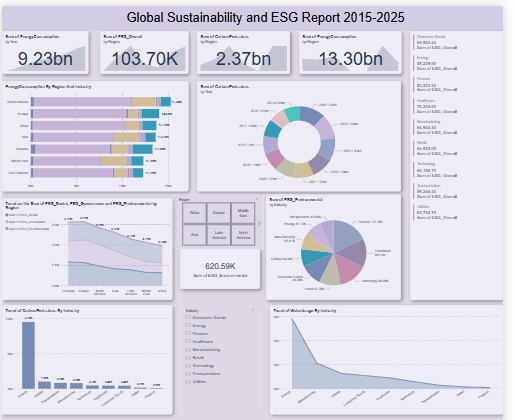

What the dashboard file says about the page in this screenshot:
{"tool":"powerbi","page":{"name":"Page 1","canvas":[1670,1500],"ordinal":0},"visuals":[{"type":"clusteredColumnChart","title":"Trend of CarbonEmissions By Industry","fields":{"Category":["esg_analysis esg_data.Industry"],"Y":["Sum(esg_analysis esg_data.CarbonEmissions)"]},"box":[0,996.7,568.3,365],"z":0},{"type":"pieChart","fields":{"Category":["esg_analysis esg_data.Industry"],"Y":["Sum(esg_analysis esg_data.ESG_Environmental)"]},"box":[880,625,450,353.3],"z":1000},{"type":"barChart","title":" EnergyConsumption By Region And Industry","fields":{"Category":["esg_analysis esg_data.Region"],"Y":["Sum(esg_analysis esg_data.EnergyConsumption)"],"Series":["esg_analysis esg_data.Industry"]},"box":[0,248.3,621.7,368.3],"z":2000},{"type":"donutChart","fields":{"Category":["esg_analysis esg_data.Year"],"Y":["Sum(esg_analysis esg_data.CarbonEmissions)"]},"box":[650,248.3,680,368.3],"z":3000},{"type":"stackedAreaChart","title":"Trend on the Sum of ESG_Social,  ESG_Governance and  ESG_Environmental by Region","fields":{"Category":["esg_analysis esg_data.Region"],"Y":["Sum(esg_analysis esg_data.ESG_Social)","Sum(esg_analysis esg_data.ESG_Governance)","Sum(esg_analysis esg_data.ESG_Environmental)"]},"box":[0,638.3,568.3,340],"z":4000},{"type":"textbox","box":[0,0,1750,81.7],"z":5000},{"type":"kpi","fields":{"TrendLine":["esg_analysis esg_data.Year"],"Indicator":["Sum(esg_analysis esg_data.EnergyConsumption)"]},"box":[0,81.7,288.3,143.3],"z":6000},{"type":"kpi","fields":{"TrendLine":["esg_analysis esg_data.Region"],"Indicator":["Sum(esg_analysis esg_data.ESG_Overall)"]},"box":[326.7,81.7,295,143.3],"z":7000},{"type":"kpi","fields":{"TrendLine":["esg_analysis esg_data.Region"],"Indicator":["Sum(esg_analysis esg_data.CarbonEmissions)"]},"box":[650,81.7,310,143.3],"z":8000},{"type":"kpi","fields":{"Indicator":["Sum(esg_analysis esg_data.EnergyConsumption)"],"TrendLine":["esg_analysis esg_data.Region"]},"box":[988.3,81.7,341.7,143.3],"z":9000},{"type":"multiRowCard","fields":{"Values":["Sum(esg_analysis esg_data.ESG_Overall)","esg_analysis esg_data.Industry"]},"box":[1360,81.7,310,896.7],"z":10000},{"type":"card","fields":{"Values":["Sum(esg_analysis esg_data.ESG_Environmental)"]},"box":[591.7,808.3,266.7,133.3],"z":11000},{"type":"areaChart","title":"Trend of WaterUsage By Industry","fields":{"Category":["esg_analysis esg_data.Industry"],"Y":["Sum(esg_analysis esg_data.WaterUsage)"]},"box":[891.7,996.7,778.3,365],"z":12000},{"type":"slicer","fields":{"Values":["esg_analysis esg_data.Region"]},"box":[568.3,625,303.3,183.3],"z":13000},{"type":"slicer","fields":{"Values":["esg_analysis esg_data.Industry"]},"box":[592,997,267,365],"z":14000}]}

Visuals, with their boxes on the page's 1670x1500 design canvas (x1, y1, x2, y2). These are canvas units, not pixel positions in the 515x420 screenshot, which may show the page scaled, cropped or inside an application window:
"Trend of CarbonEmissions By Industry" clusteredColumnChart: [0, 997, 568, 1362]
pieChart - esg_analysis esg_data.Industry x Sum(esg_analysis esg_data.ESG_Environmental): [880, 625, 1330, 978]
" EnergyConsumption By Region And Industry" barChart: [0, 248, 622, 617]
donutChart - esg_analysis esg_data.Year x Sum(esg_analysis esg_data.CarbonEmissions): [650, 248, 1330, 617]
"Trend on the Sum of ESG_Social,  ESG_Governance and  ESG_Environmental by Region" stackedAreaChart: [0, 638, 568, 978]
textbox: [0, 0, 1750, 82]
kpi - esg_analysis esg_data.Year x Sum(esg_analysis esg_data.EnergyConsumption): [0, 82, 288, 225]
kpi - esg_analysis esg_data.Region x Sum(esg_analysis esg_data.ESG_Overall): [327, 82, 622, 225]
kpi - esg_analysis esg_data.Region x Sum(esg_analysis esg_data.CarbonEmissions): [650, 82, 960, 225]
kpi - Sum(esg_analysis esg_data.EnergyConsumption) x esg_analysis esg_data.Region: [988, 82, 1330, 225]
multiRowCard - Sum(esg_analysis esg_data.ESG_Overall) x esg_analysis esg_data.Industry: [1360, 82, 1670, 978]
card - Sum(esg_analysis esg_data.ESG_Environmental): [592, 808, 858, 942]
"Trend of WaterUsage By Industry" areaChart: [892, 997, 1670, 1362]
slicer - esg_analysis esg_data.Region: [568, 625, 872, 808]
slicer - esg_analysis esg_data.Industry: [592, 997, 859, 1362]
